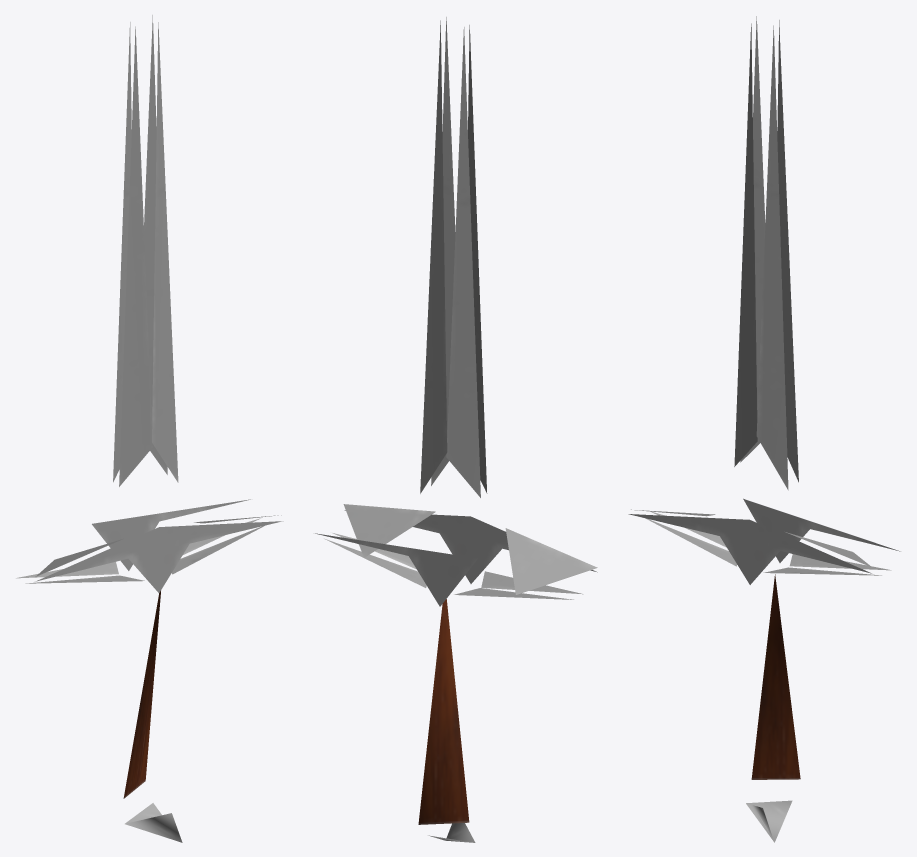
Rendered from dagger_lod3.glb.
3 views of the same model, side by side, from view 1: azimuth 30°, elevation 25°; view 2: azimuth 150°, elevation 25°; view 3: azimuth 330°, elevation 25° (orthographic). The views are drawn at different scales.
Visible parts, largest first — view 1: Dagger_LOD3_temp; view 2: Dagger_LOD3_temp; view 3: Dagger_LOD3_temp.
Part boxes in pixels (box(x1,y1,x2,y2)): Dagger_LOD3_temp: box(16, 15, 283, 842); Dagger_LOD3_temp: box(315, 17, 597, 842); Dagger_LOD3_temp: box(628, 16, 900, 842).
Bounding box in the file's own units: 0.1545 × 0.485 × 0.035.
1 material, 1 textured.
